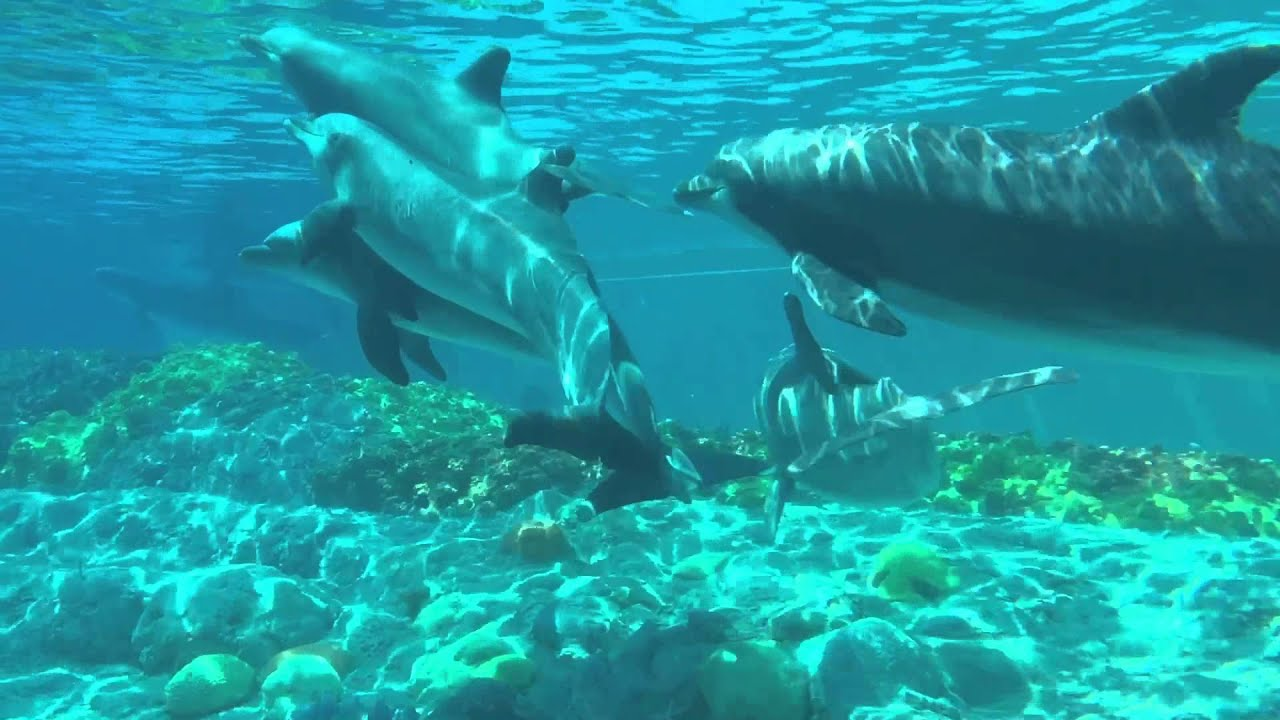dolphin: (666, 12, 1280, 363), (256, 93, 708, 516), (700, 298, 1029, 526)
